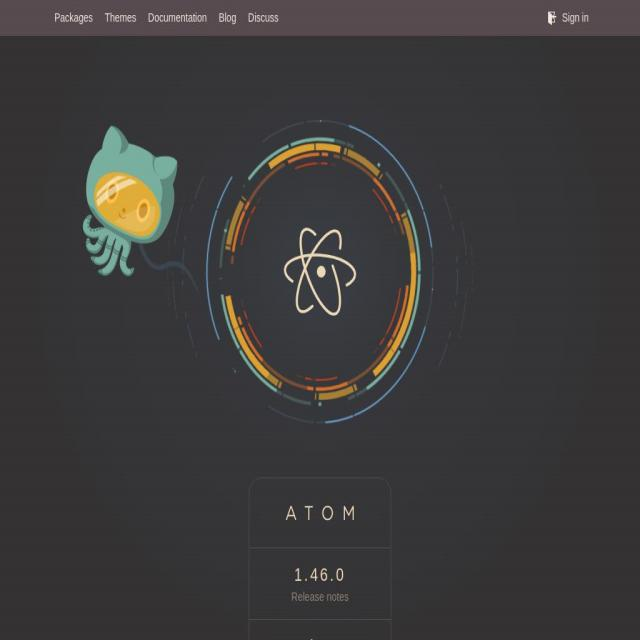login-option: (540, 3, 596, 32)
navigation-links: (42, 0, 288, 45)
